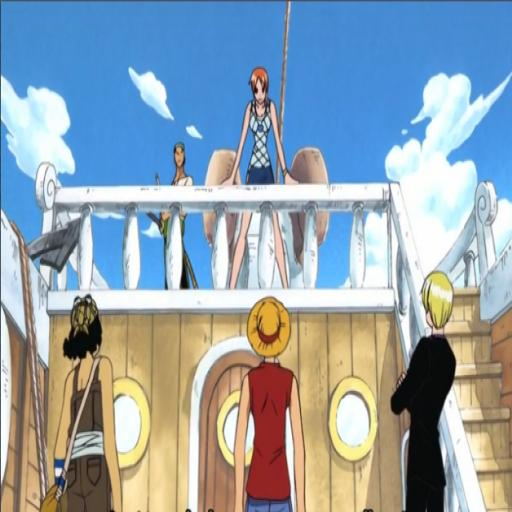Luffy: (231, 300, 318, 512)
Nami: (224, 58, 295, 282)
Usopp: (41, 287, 129, 512)
Zoro: (147, 136, 194, 290)
sanji: (388, 268, 473, 512)
